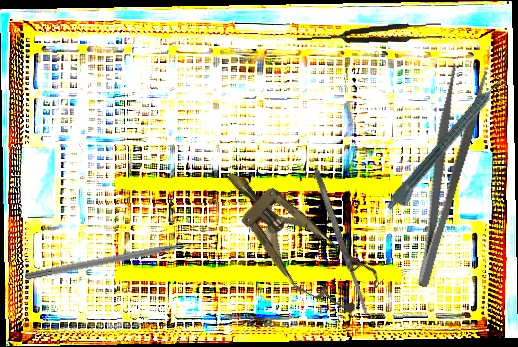Dressing Forceps: (394, 61, 491, 290)
Handpiece: (384, 74, 512, 217)
Pusher: (24, 237, 208, 283)
Spatula Surgical: (312, 168, 371, 318)
Speculum: (204, 149, 387, 329)
Tissue Forceps: (296, 21, 442, 48)
